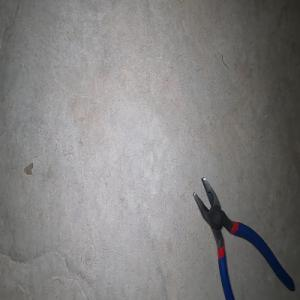Pliers: (192, 176, 295, 300)
